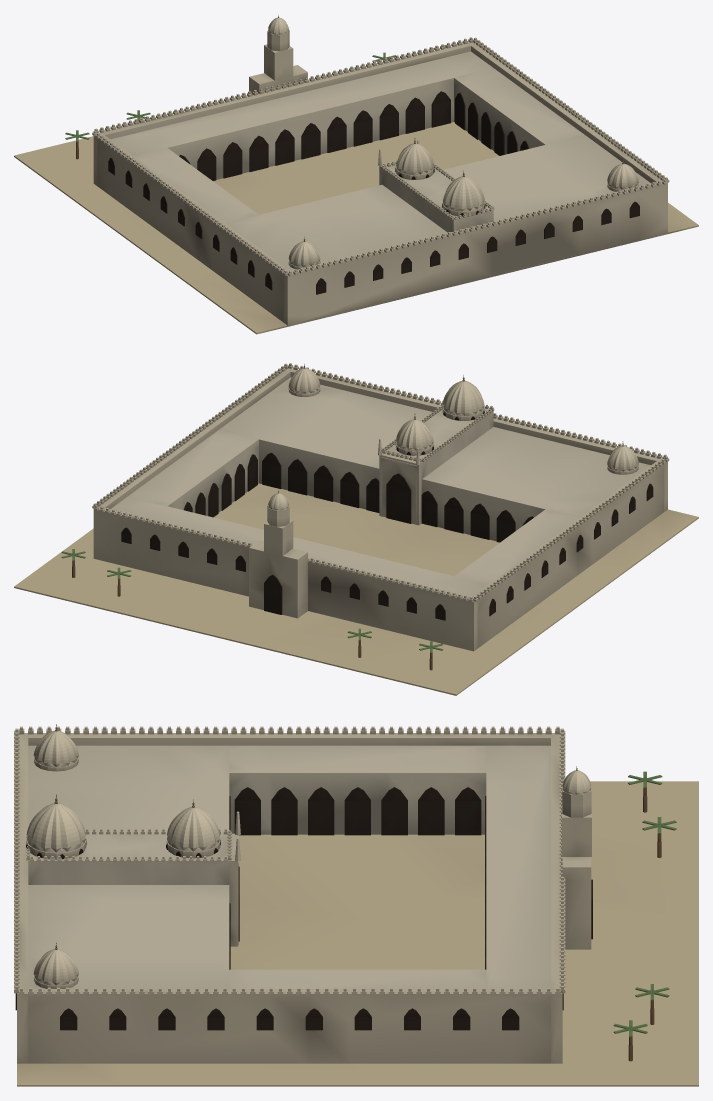
File: al-azhar-972.glb
3 renders of one model, top to bottom at view 1: azimuth 30°, elevation 25°; view 2: azimuth 150°, elevation 25°; view 3: azimuth 270°, elevation 25°, orthographic. The views are drawn at different scales.
Parts seen in each view (by area): view 1: p0_walls, p1_arcades, p2_domes, p3_minaret; view 2: p0_walls, p1_arcades, p2_domes, p3_minaret; view 3: p0_walls, p1_arcades, p2_domes, p3_minaret.
Part boxes in pixels (box(x1,y1,x2,y2)): p0_walls: box(14, 37, 698, 334); p1_arcades: box(110, 51, 650, 270); p2_domes: box(288, 138, 638, 269); p3_minaret: box(65, 15, 446, 147); p0_walls: box(14, 363, 698, 695); p1_arcades: box(110, 377, 650, 596); p2_domes: box(288, 364, 638, 525); p3_minaret: box(61, 490, 443, 658); p0_walls: box(14, 726, 698, 1086); p1_arcades: box(28, 745, 550, 988); p2_domes: box(26, 724, 240, 988); p3_minaret: box(562, 766, 676, 1045).
Size of the model in its own units: 100 by 25.97 by 95.4.
